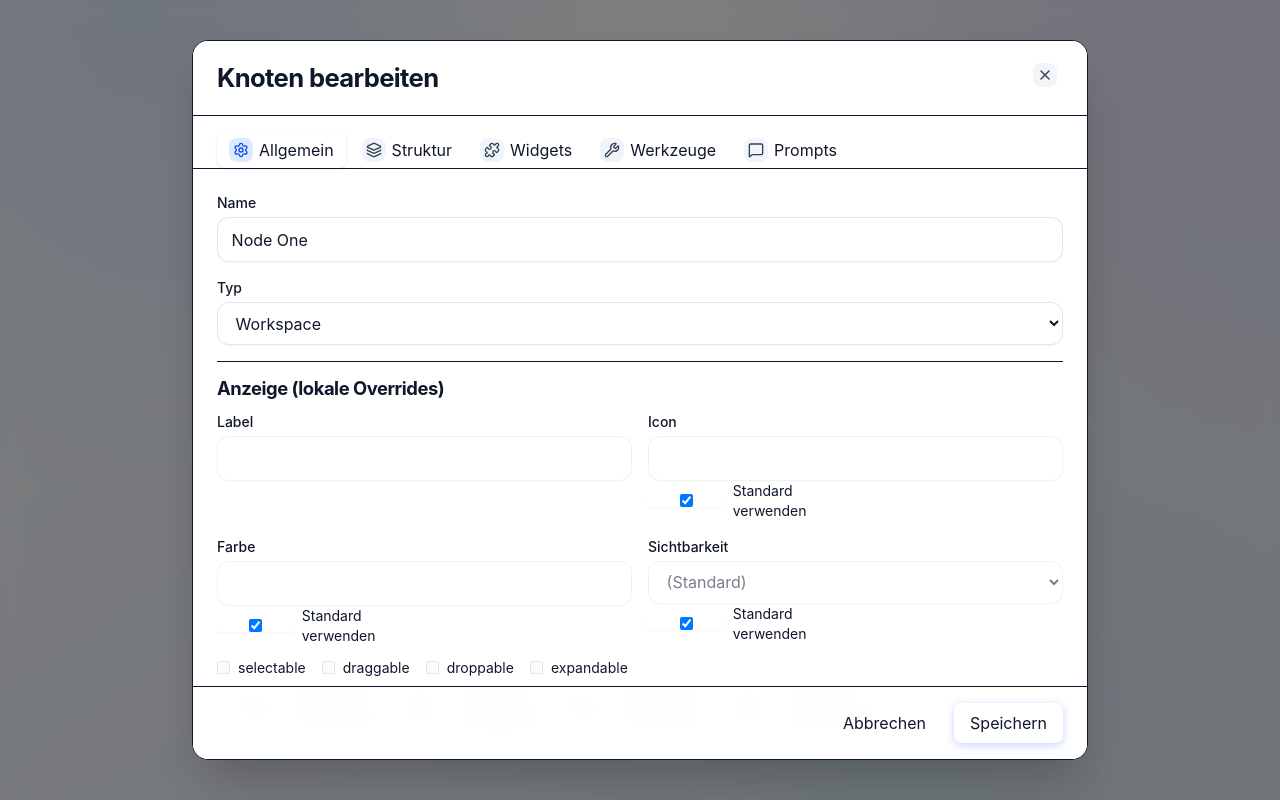
Test: NodeEditorDialog — Structure tab › displays parent info
This screenshot has width=1280, height=800.
// Parent info present
Click the tab "Struktur" at (407, 150), box [350,132,464,168]
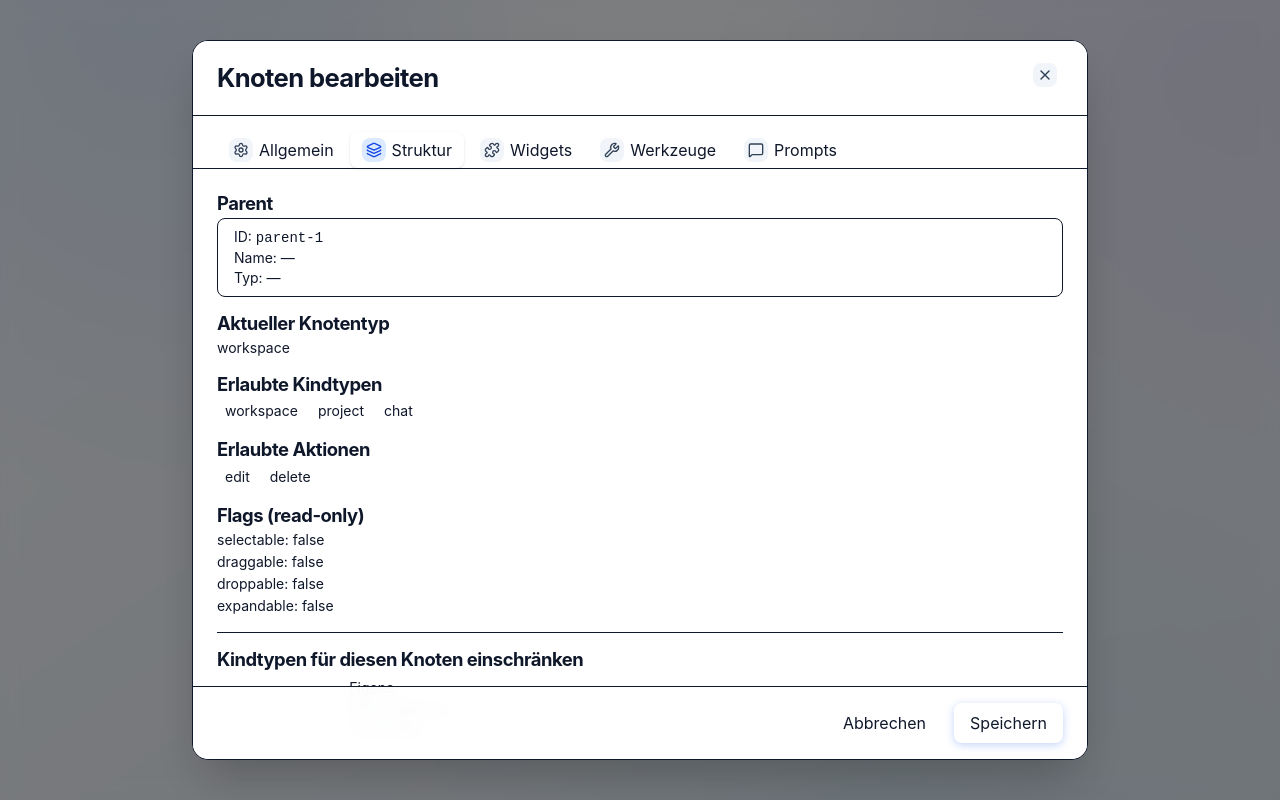
Check: the text "parent-1" is shown, box [256,230,323,246]
Check: the text "Name: —" is shown, box [234,249,295,266]
Check: the text "Typ: —" is shown, box [234,269,281,286]
